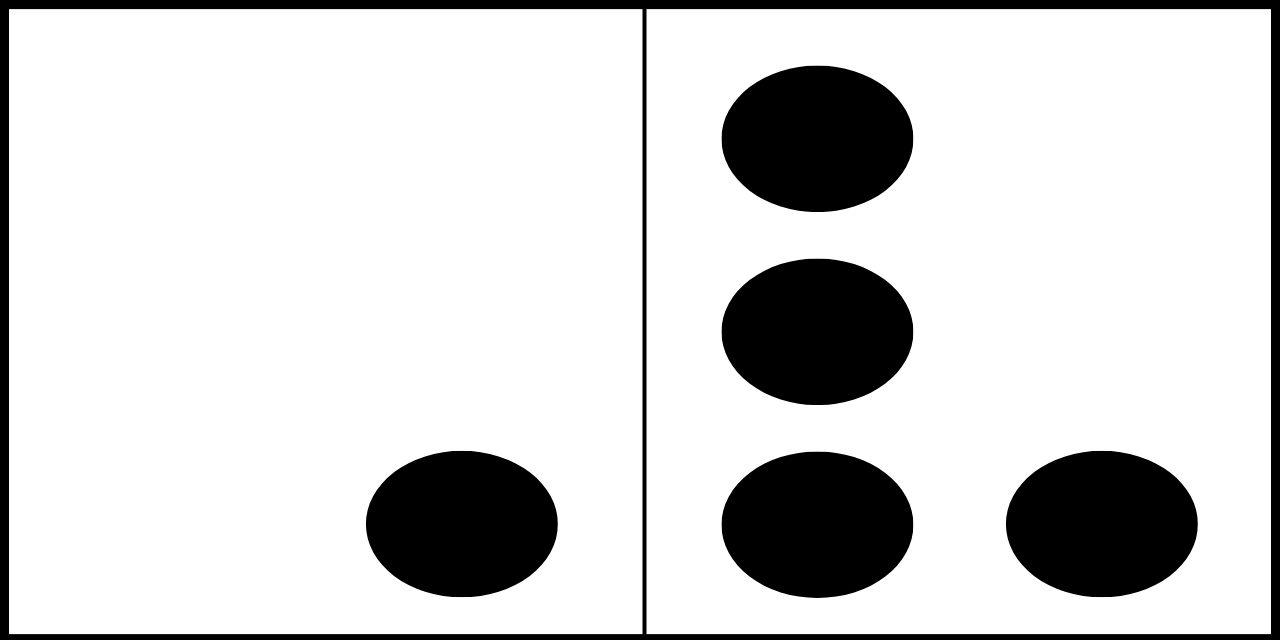V: (719, 62, 1198, 597)
capital: (140, 62, 558, 598)
